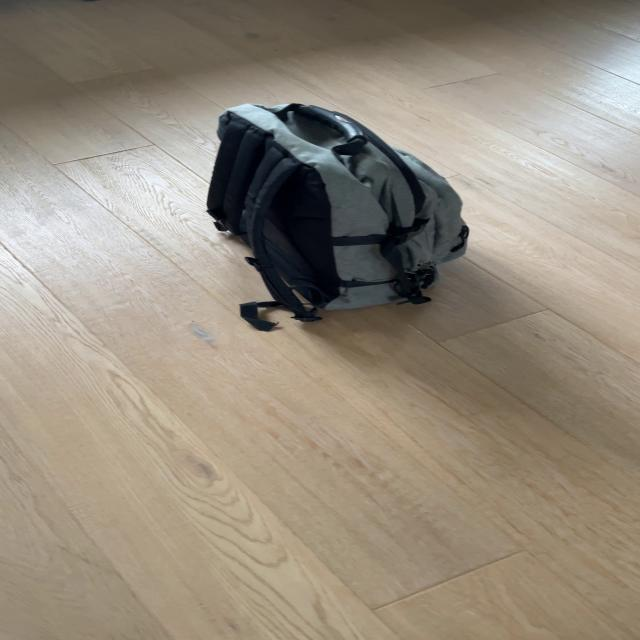backpack: (192, 93, 484, 326)
